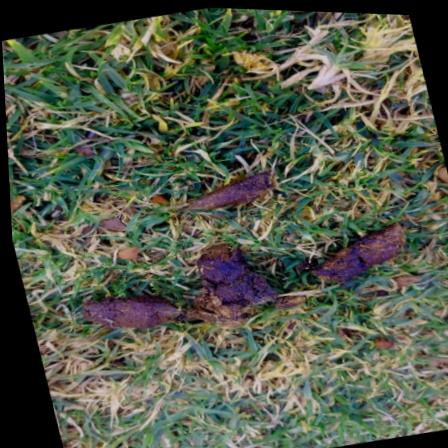dog-poop: (51, 209, 417, 363), (151, 165, 288, 224)
